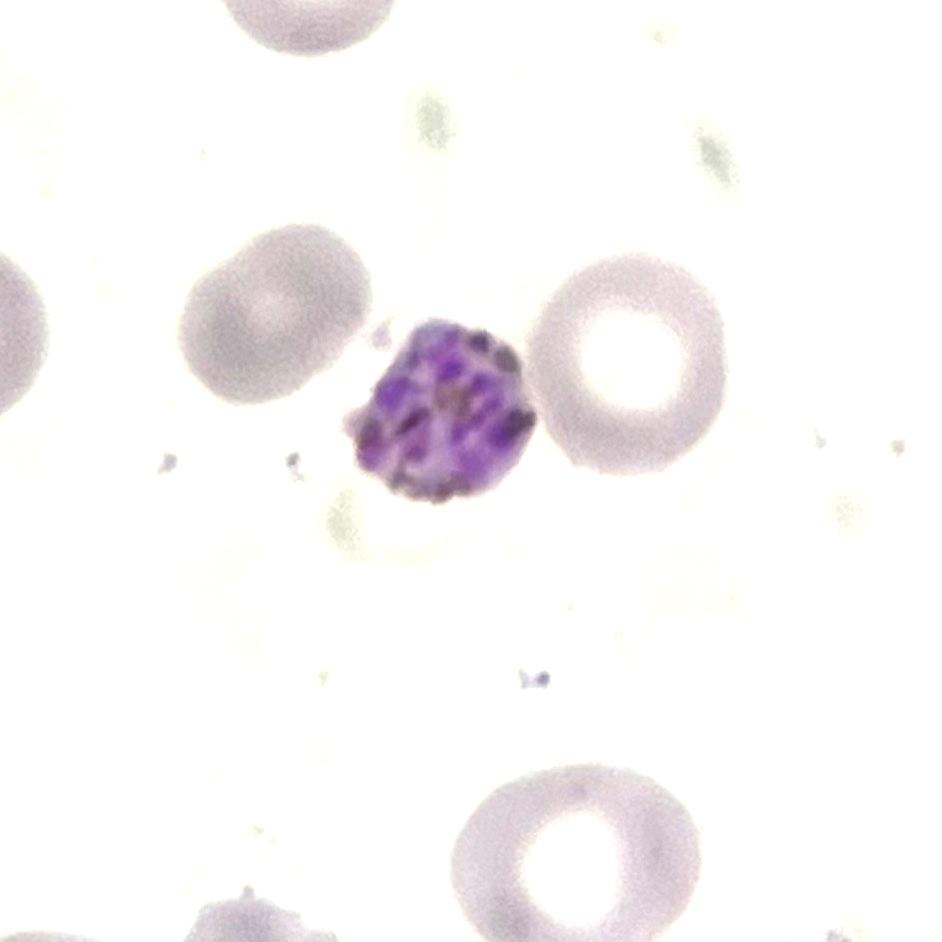Infected: (346, 315, 546, 498)
Uninfected: (450, 761, 699, 942), (534, 253, 725, 477), (178, 231, 370, 400)
